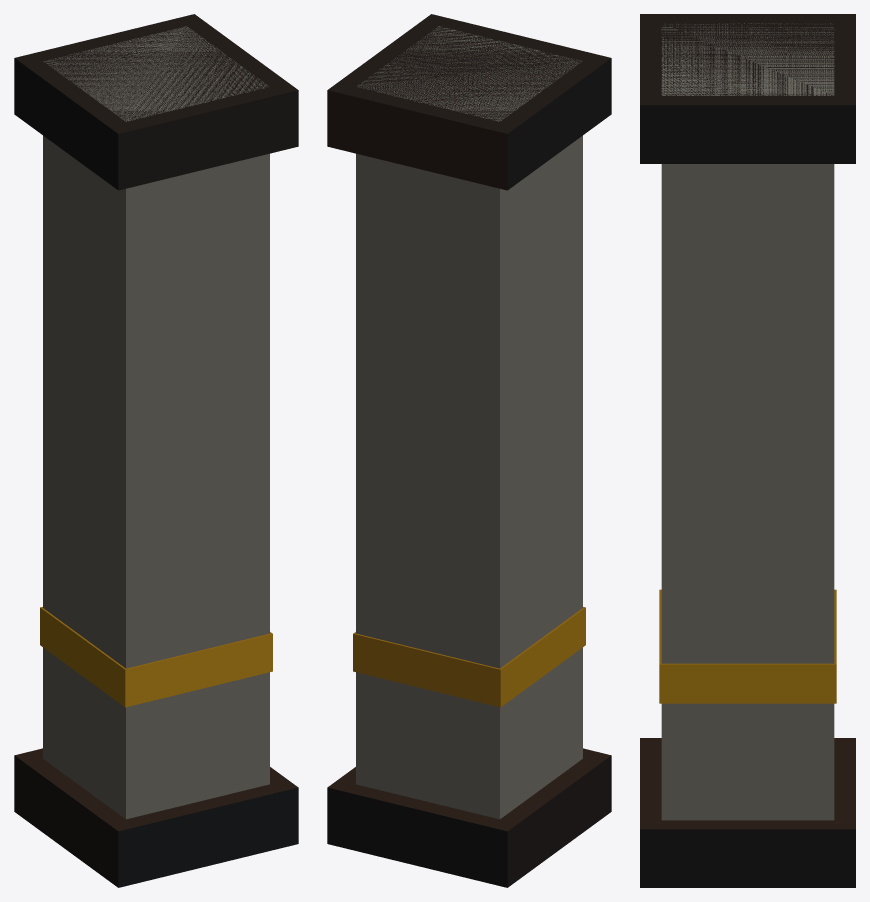
File: kit_column.glb
3 views of the same model, side by side, from view 1: azimuth 30°, elevation 25°; view 2: azimuth 150°, elevation 25°; view 3: azimuth 270°, elevation 25° (orthographic). The views are drawn at different scales.
Parts seen in each view (by area): view 1: Mesh; view 2: Mesh; view 3: Mesh.
Boxes of the visible parts, x1,y1,x2,y2 form: Mesh: (14,14,298,887); Mesh: (327,14,611,887); Mesh: (640,14,855,887).
Size of the model in its own units: 1 by 4 by 1.
